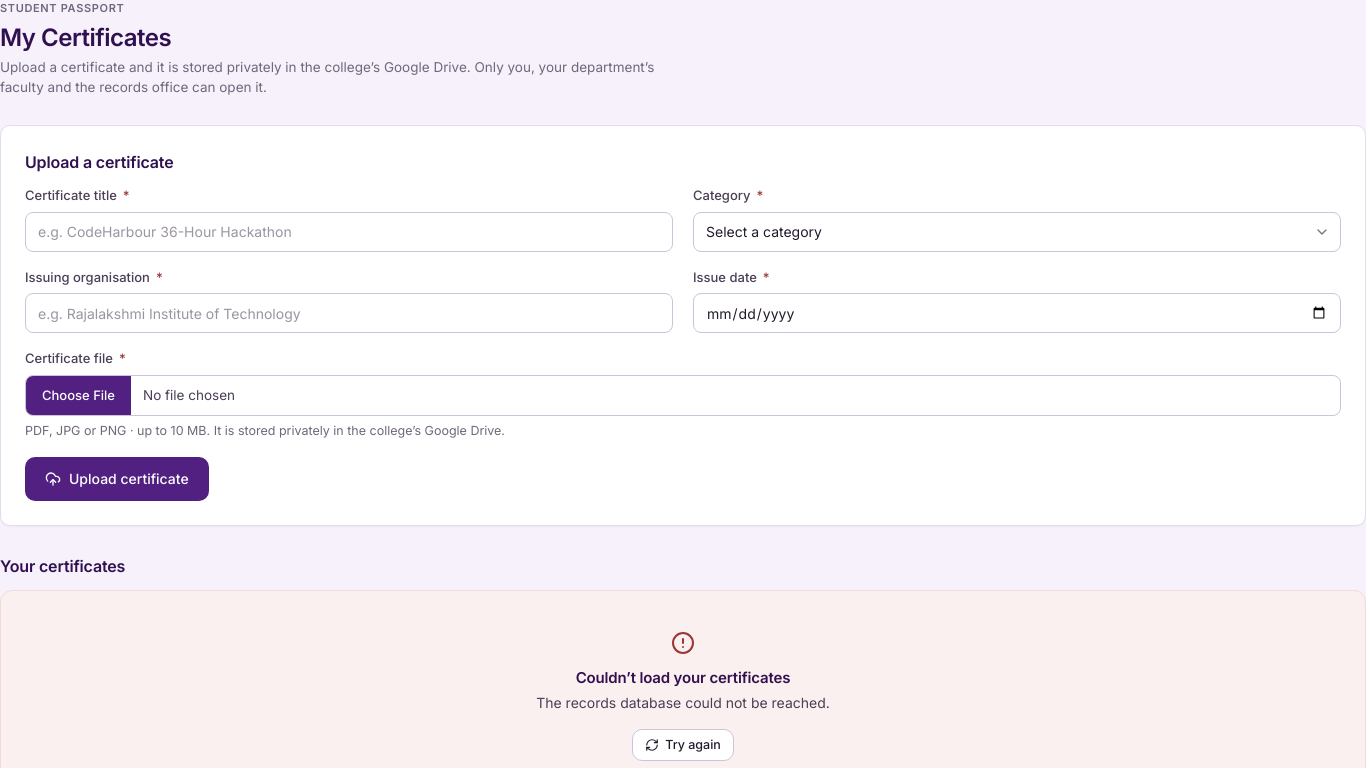
your certificates › explains a failed list instead of showing an empty one, and can try again
The width and height of the screenshot is (1366, 768).
Expected: the text "Couldn’t load your certificates" is shown, top-left (576, 667), bottom-right (790, 689)
Click the button "Try again" at (683, 745), box top-left (632, 729), bottom-right (734, 761)
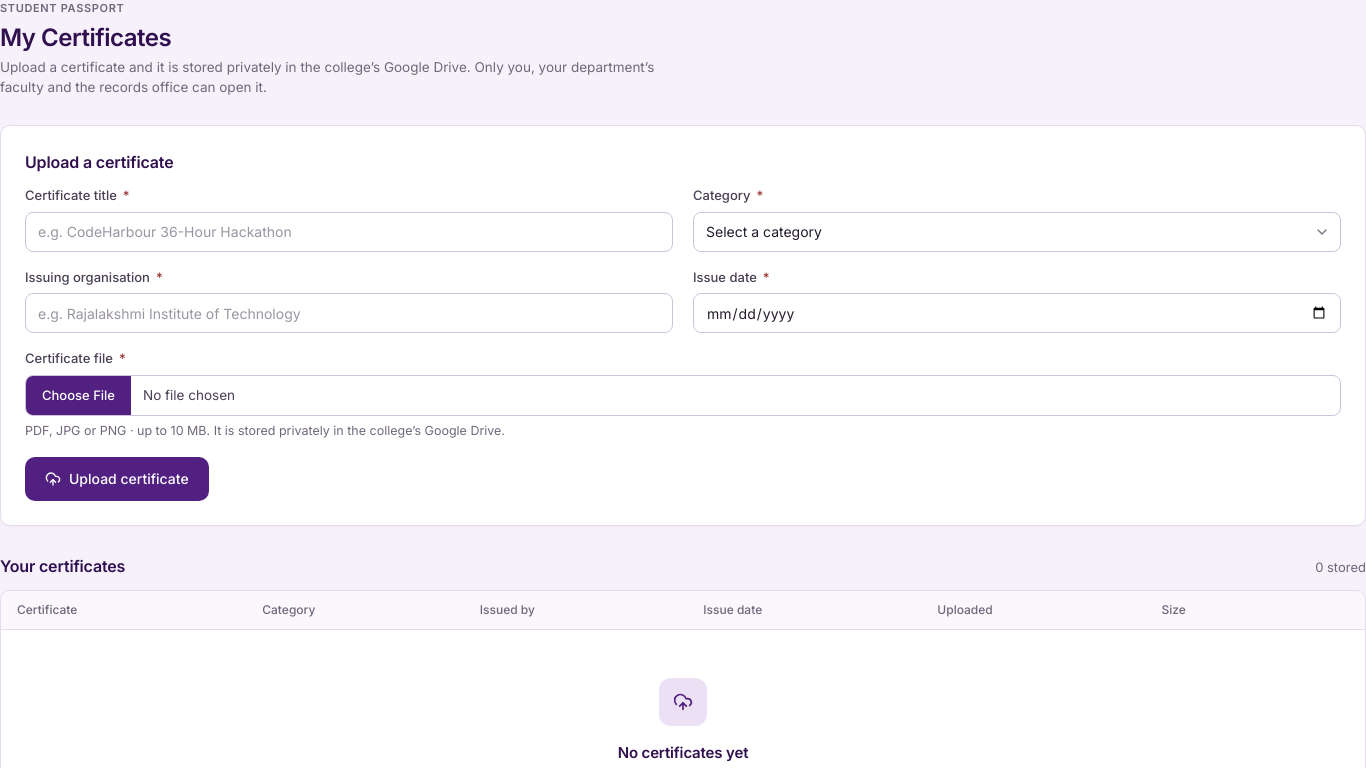
Expected: the text "No certificates yet" is shown, top-left (618, 742), bottom-right (748, 764)
